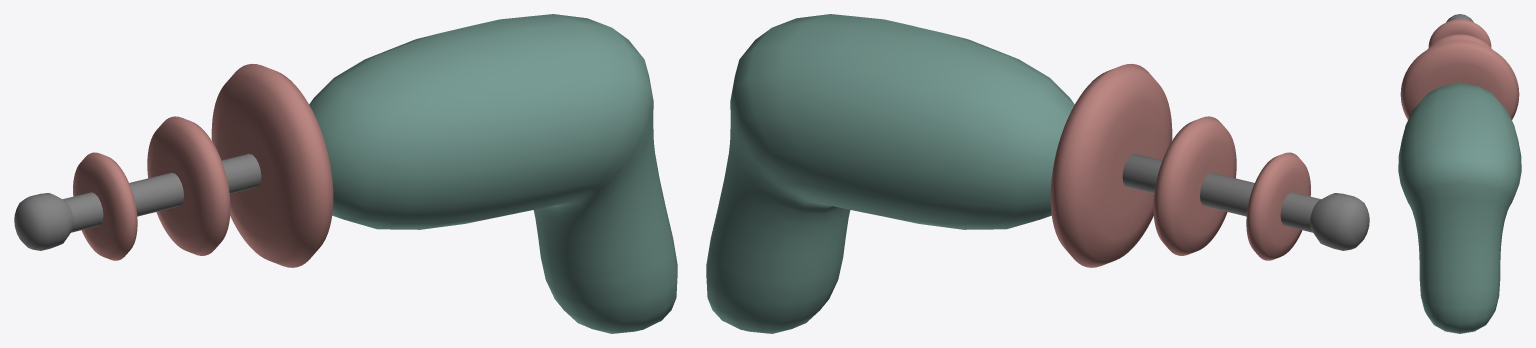
File: raygun.glb
3 renders of one model, left to right at view 1: azimuth 30°, elevation 25°; view 2: azimuth 150°, elevation 25°; view 3: azimuth 270°, elevation 25°, orthographic. The views are drawn at different scales.
Parts seen in each view (by area): view 1: Circle; view 2: Circle; view 3: Circle.
Boxes of the visible parts, x1,y1,x2,y2 form: Circle: [14, 14, 677, 333]; Circle: [706, 14, 1369, 333]; Circle: [1398, 14, 1521, 333].
Bounding box in the file's own units: 0.5 × 0.2497 × 0.1446.
